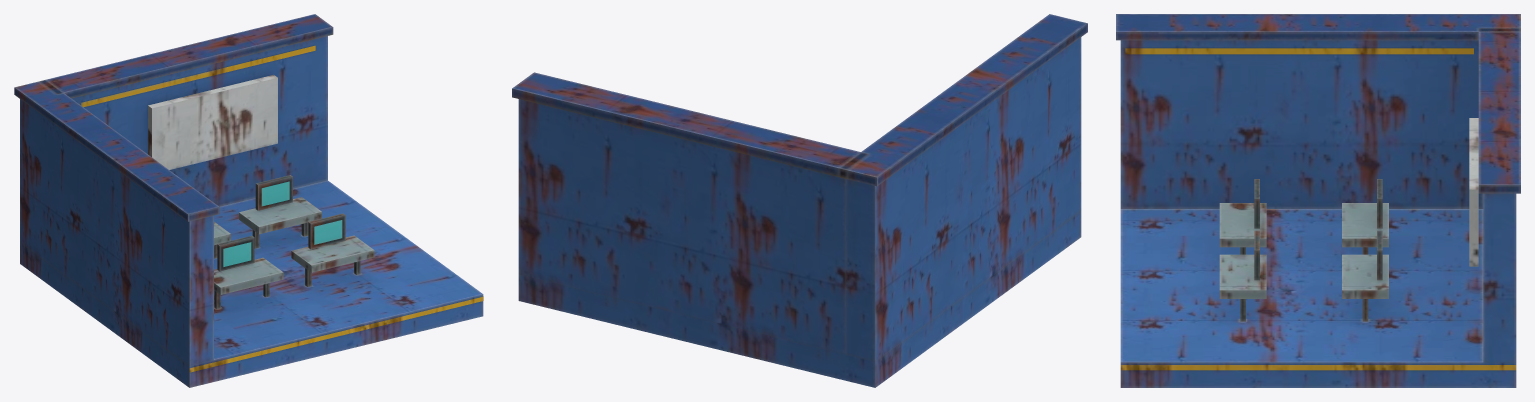
File: basic_school.glb
3 views of the same model, side by side, from view 1: azimuth 30°, elevation 25°; view 2: azimuth 150°, elevation 25°; view 3: azimuth 270°, elevation 25° (orthographic). The views are drawn at different scales.
Visible parts, largest first — view 1: te_basic_school; view 2: te_basic_school; view 3: te_basic_school.
Part boxes in pixels (x1,y1,x2,y2): te_basic_school: (14, 14, 483, 387); te_basic_school: (512, 14, 1087, 387); te_basic_school: (1116, 14, 1520, 387).
Bounding box in the file's own units: 0.86 × 0.48 × 0.86.
1 material, 1 textured.
